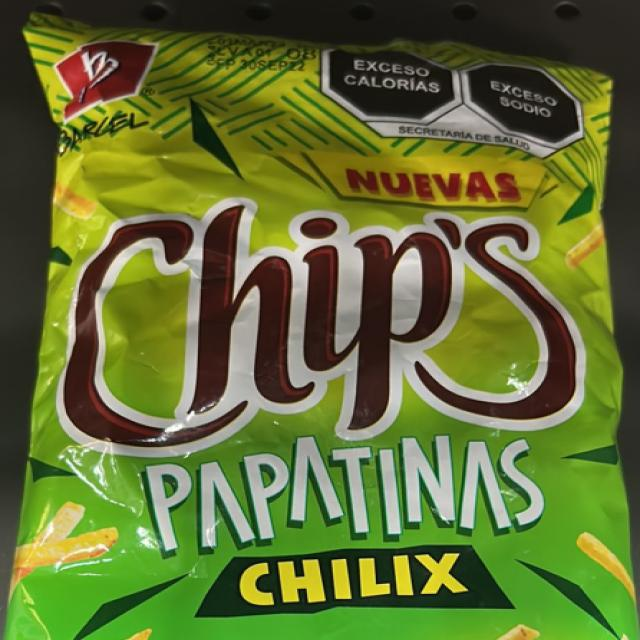chipsPapatinas: (43, 21, 630, 640)
